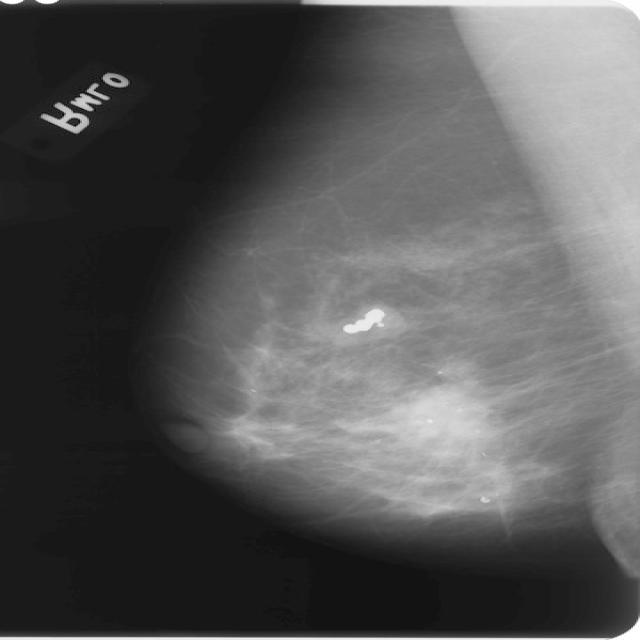tumour: (375, 388, 494, 449)
